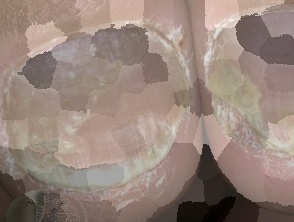Nail_psoriasis: (0, 0, 216, 222), (198, 0, 294, 189)
